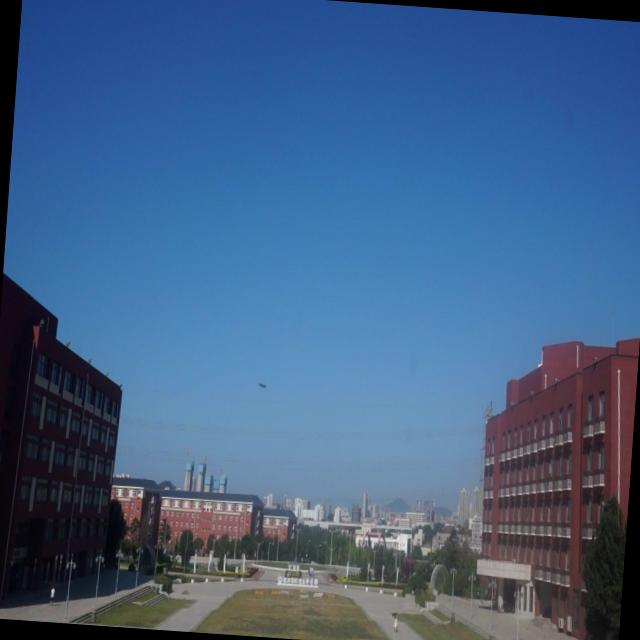drone: (256, 377, 269, 392)
